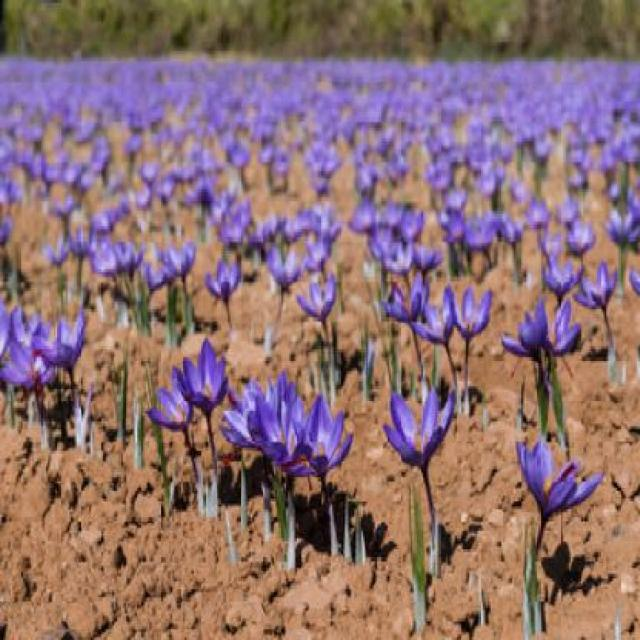Flower: (514, 436, 603, 522), (388, 384, 458, 473), (290, 391, 348, 483), (180, 340, 228, 414), (451, 283, 503, 339), (504, 300, 550, 362), (385, 268, 429, 328), (42, 314, 86, 374), (577, 248, 617, 312), (420, 288, 458, 352), (299, 272, 344, 326), (157, 377, 197, 432), (160, 238, 203, 285), (205, 251, 243, 304), (266, 241, 302, 293), (538, 253, 579, 298), (604, 212, 638, 251), (568, 222, 597, 258)
